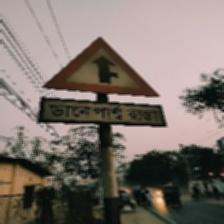Side-road-right: (38, 36, 163, 130)
